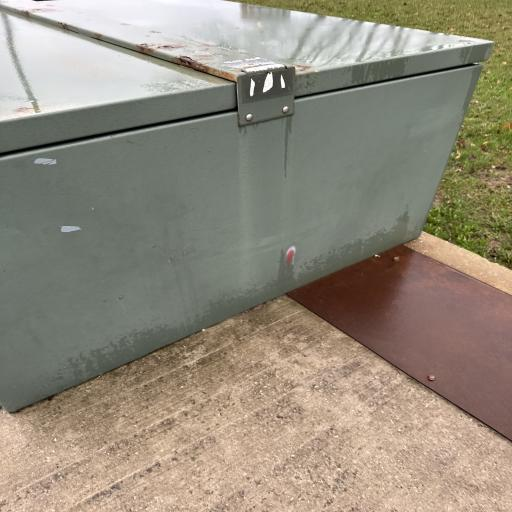Electrical Box: (1, 0, 494, 413)
